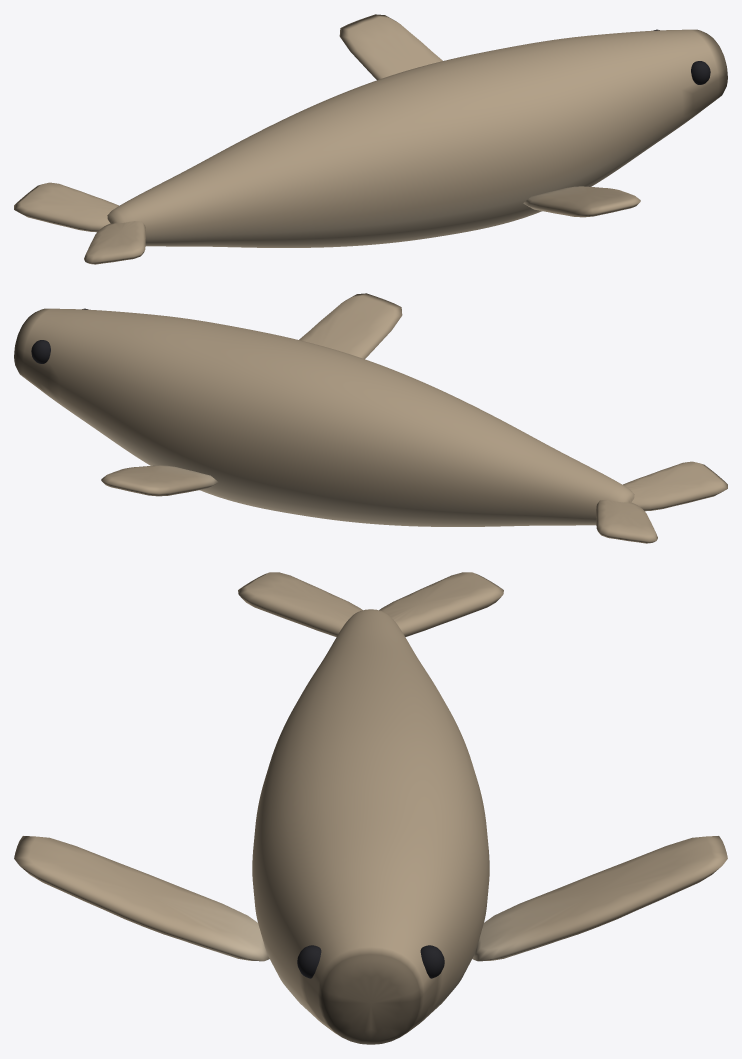
File: steller_sea_lion.glb
3 renders of one model, top to bottom at view 1: azimuth 30°, elevation 25°; view 2: azimuth 150°, elevation 25°; view 3: azimuth 270°, elevation 25°, orthographic. The views are drawn at different scales.
Parts seen in each view (by area): view 1: steller_sea_lion; view 2: steller_sea_lion; view 3: steller_sea_lion.
Boxes of the visible parts, <box> form: steller_sea_lion: <box>14,14,727,264</box>; steller_sea_lion: <box>14,293,727,543</box>; steller_sea_lion: <box>14,572,727,1044</box>.
Bounding box in the file's own units: 3.31 × 0.7227 × 2.23.
